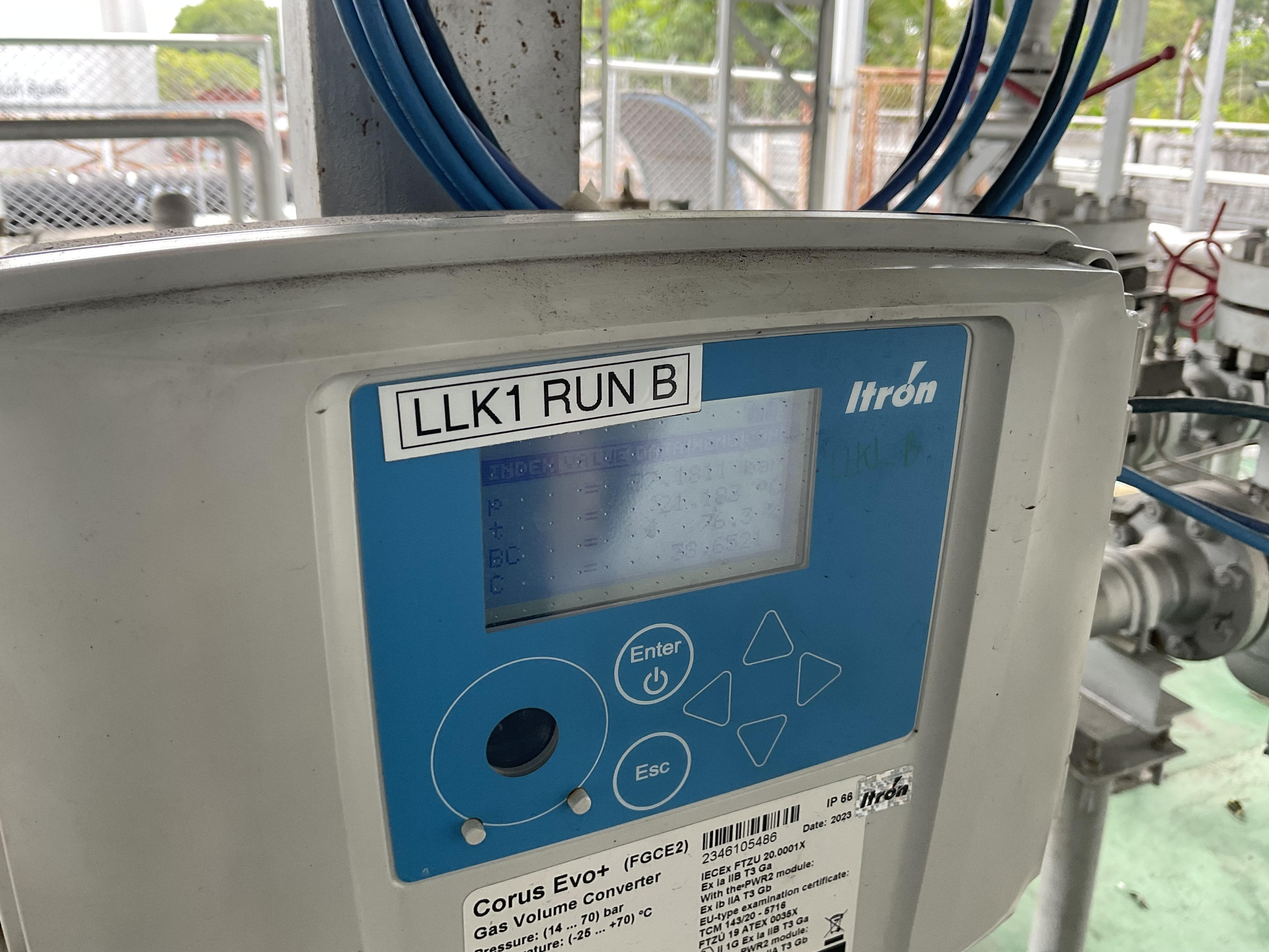digital_screen: (463, 388, 845, 634)
